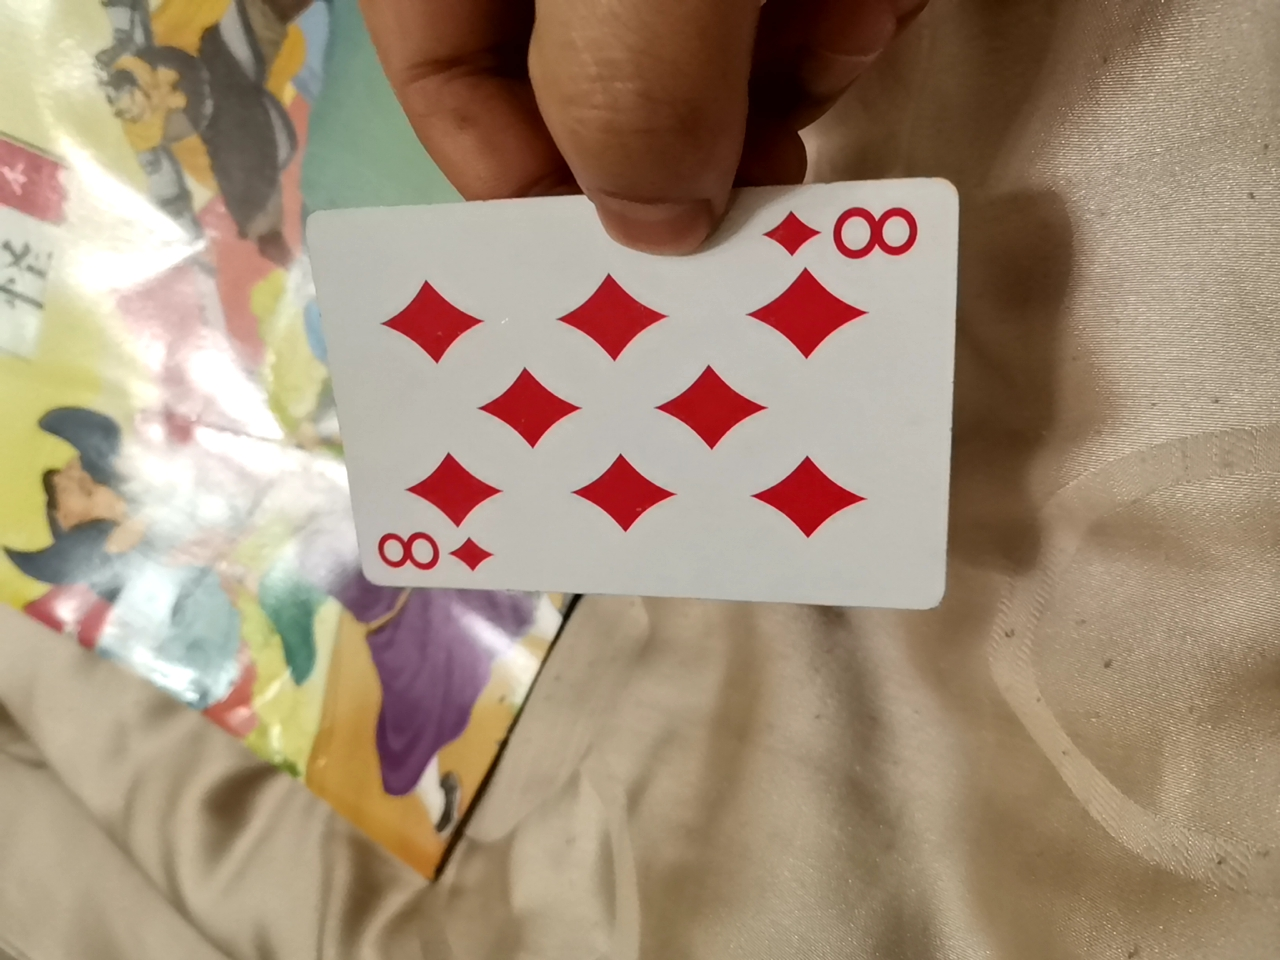fk 8: (321, 206, 950, 657)
